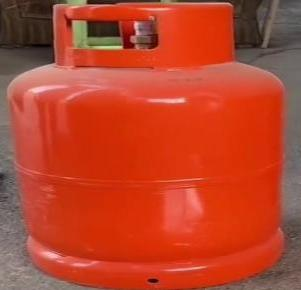cylinder: (1, 1, 301, 290)
